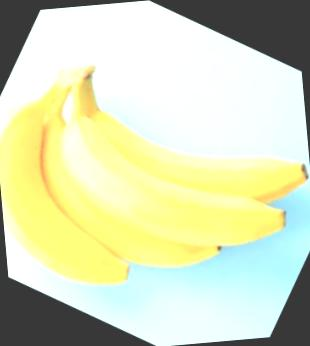Banana Ripe: (0, 0, 310, 341)
